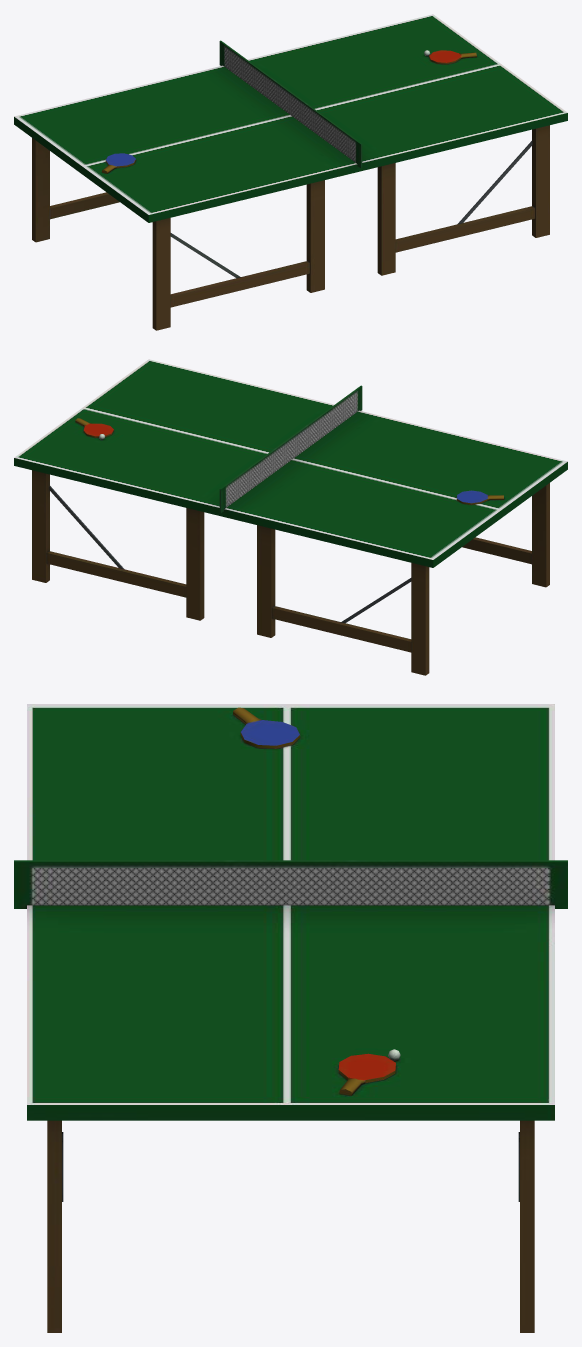
The model's file is TableTennis.fbx.
3 views of the same model, one above another, from view 1: azimuth 30°, elevation 25°; view 2: azimuth 150°, elevation 25°; view 3: azimuth 270°, elevation 25° (orthographic). The views are drawn at different scales.
Parts seen in each view (by area): view 1: TableTennis; view 2: TableTennis; view 3: TableTennis.
Boxes of the visible parts, x1,y1,x2,y2 form: TableTennis: [14, 14, 567, 330]; TableTennis: [14, 359, 567, 675]; TableTennis: [14, 704, 567, 1332].
Size of the model in its own units: 274 by 90.38 by 160.
